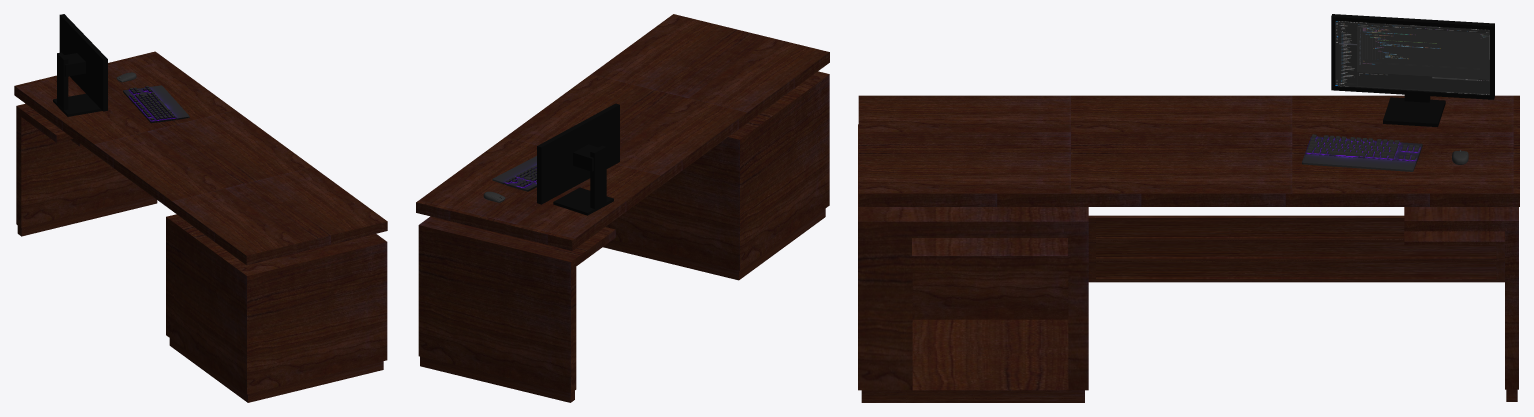
The model's file is Desk.glb.
3 views of the same model, side by side, from view 1: azimuth 30°, elevation 25°; view 2: azimuth 150°, elevation 25°; view 3: azimuth 270°, elevation 25° (orthographic). The views are drawn at different scales.
Visible parts, largest first — view 1: Box007, Box002, Box004, Cube.089, Box001, Box003, Cube, Cube.088, Cube.023, Cube.090; view 2: Box007, Box004, Box002, Cube.089, Box001, Box003, Cube.088, Cube, Cube.090, Cube.023; view 3: Box007, Box002, Semi_Transparent, Cube.089, Box008, Box004, Box001, Cube, Cube.023, Cube.016.
Boxes of the visible parts, x1,y1,x2,y2 form: Box007: [14, 51, 387, 265]; Box002: [166, 214, 387, 394]; Box004: [16, 103, 151, 227]; Cube.089: [59, 14, 107, 111]; Box001: [169, 338, 383, 402]; Box003: [17, 196, 157, 236]; Cube: [53, 93, 102, 116]; Cube.088: [57, 52, 68, 110]; Cube.023: [149, 85, 189, 119]; Cube.090: [64, 53, 85, 76]; Box007: [416, 14, 829, 250]; Box004: [418, 216, 615, 393]; Box002: [606, 71, 829, 270]; Cube.089: [537, 103, 619, 204]; Box001: [603, 208, 825, 280]; Box003: [420, 356, 574, 402]; Cube.088: [590, 145, 606, 208]; Cube: [553, 187, 613, 215]; Cube.090: [573, 144, 607, 171]; Cube.023: [492, 156, 536, 184]; Box007: [858, 95, 1519, 206]; Box002: [858, 124, 1088, 390]; Semi_Transparent: [1096, 221, 1496, 277]; Cube.089: [1331, 14, 1494, 99]; Box008: [1088, 215, 1504, 282]; Box004: [1404, 207, 1518, 389]; Box001: [861, 390, 1084, 402]; Cube: [1383, 97, 1445, 126]; Cube.023: [1302, 154, 1416, 171]; Cube.016: [1305, 136, 1422, 162].
Size of the model in its own units: 0.7918 by 1.16 by 2.26.
Materials: 10 (6 with a texture image).
